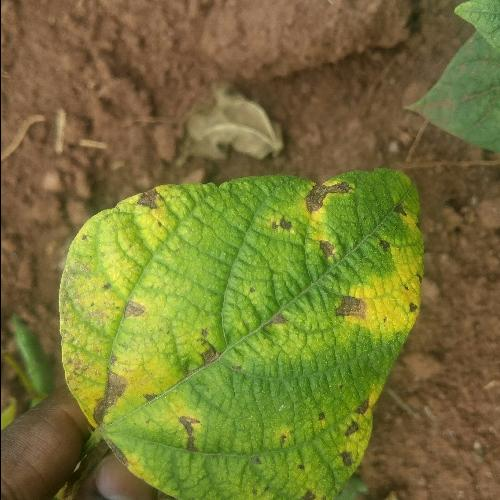hawar: (88, 285, 154, 470), (262, 166, 358, 260), (292, 395, 372, 500), (170, 400, 207, 461), (190, 318, 230, 370), (121, 178, 169, 213), (333, 292, 369, 326), (260, 305, 289, 342)
mozaik: (174, 197, 255, 311), (237, 358, 279, 486)
